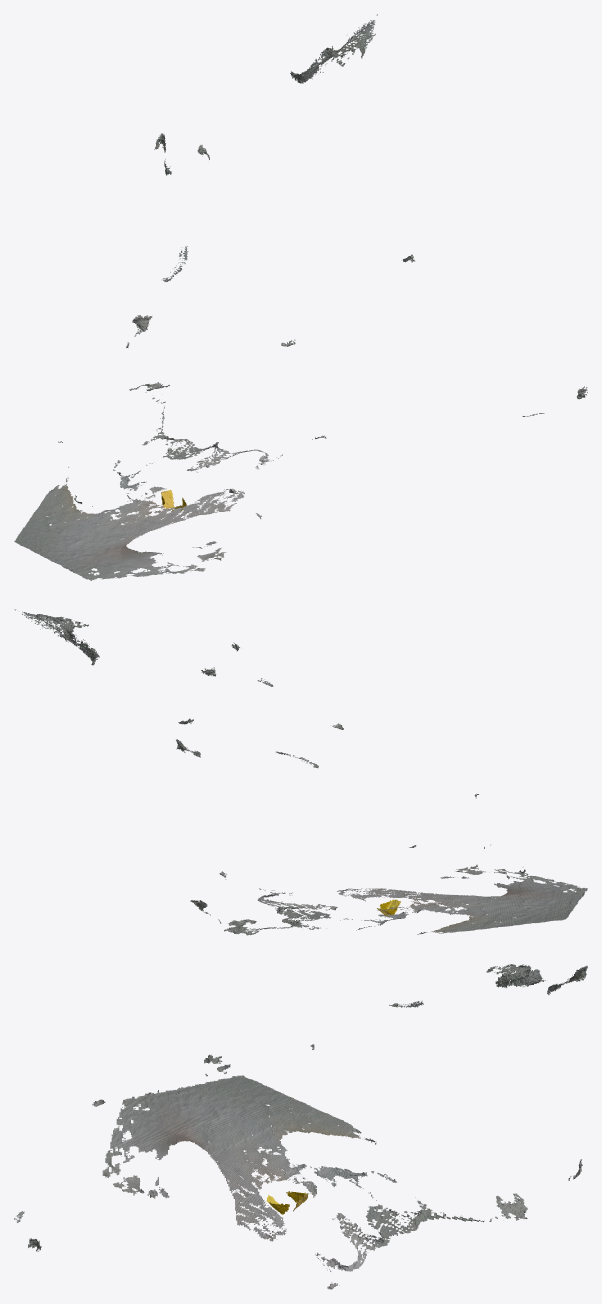
3 views of the same model, one above another, from view 1: azimuth 30°, elevation 25°; view 2: azimuth 150°, elevation 25°; view 3: azimuth 270°, elevation 25° (orthographic). The views are drawn at different scales.
Parts seen in each view (by area): view 1: world; view 2: world; view 3: world.
Boxes of the visible parts, x1,y1,x2,y2 form: world: (14, 14, 587, 580); world: (14, 609, 587, 935); world: (14, 964, 587, 1289).
Bounding box in the file's own units: 1.06 × 0.7101 × 0.894.
